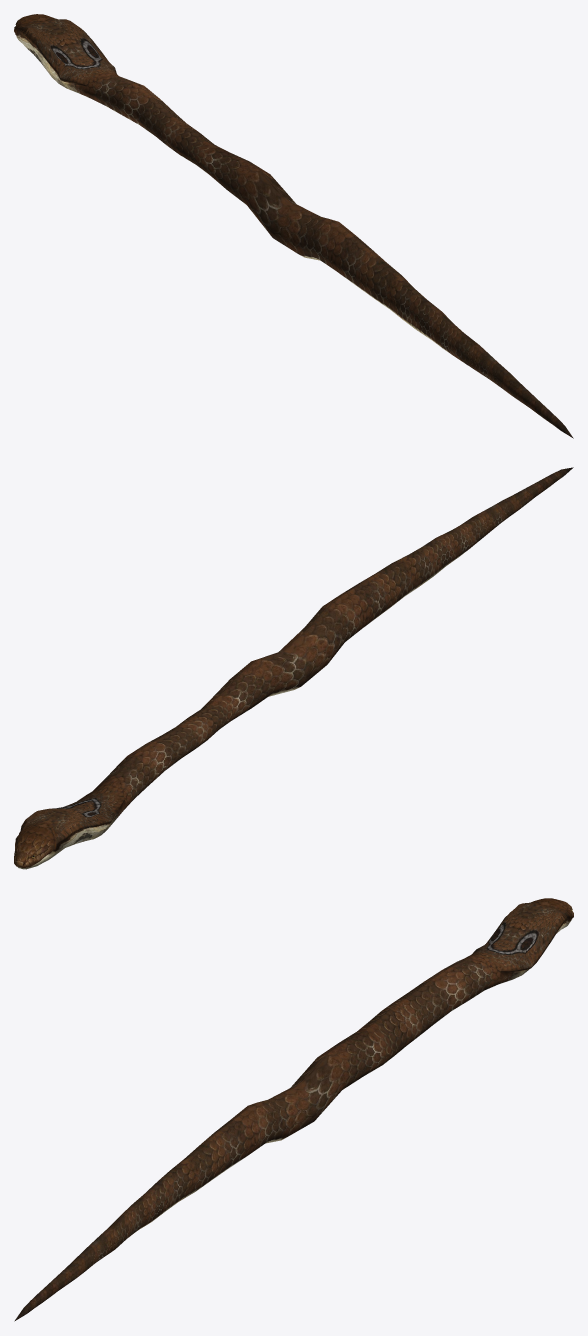
The model's file is cobra.glb.
3 views of the same model, one above another, from view 1: azimuth 30°, elevation 25°; view 2: azimuth 150°, elevation 25°; view 3: azimuth 330°, elevation 25° (orthographic).
Visible parts, largest first — view 1: CobraReta; view 2: CobraReta; view 3: CobraReta.
Part boxes in pixels (x1,y1,x2,y2): CobraReta: (14, 14, 573, 438); CobraReta: (14, 467, 573, 869); CobraReta: (14, 898, 573, 1321).
Size of the model in its own units: 9.91 by 9.24 by 173.
1 material, 1 textured.
